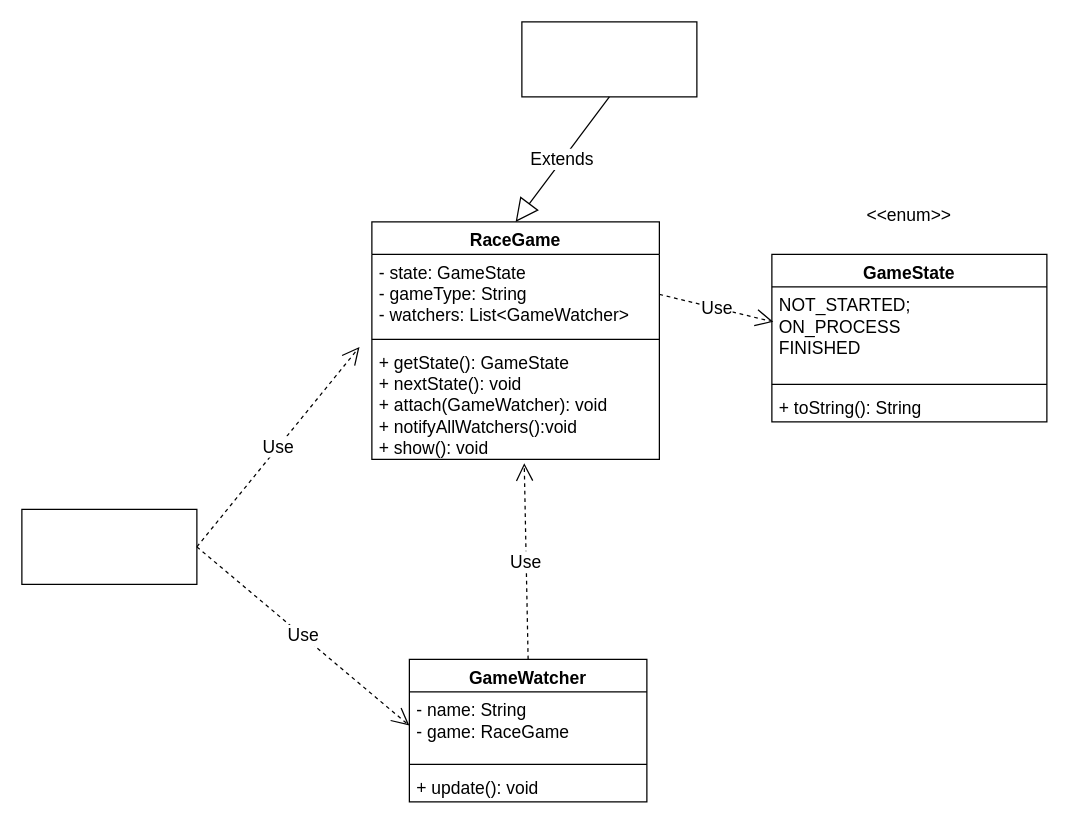
Some shapes in this 1069 by 828 pixel diagram are drawn without their labels. The centre of each missing label's shape, as x and y in pixels:
"Game" belongs at pixel 609 59.
"ObserverTest" belongs at pixel 109 546.
